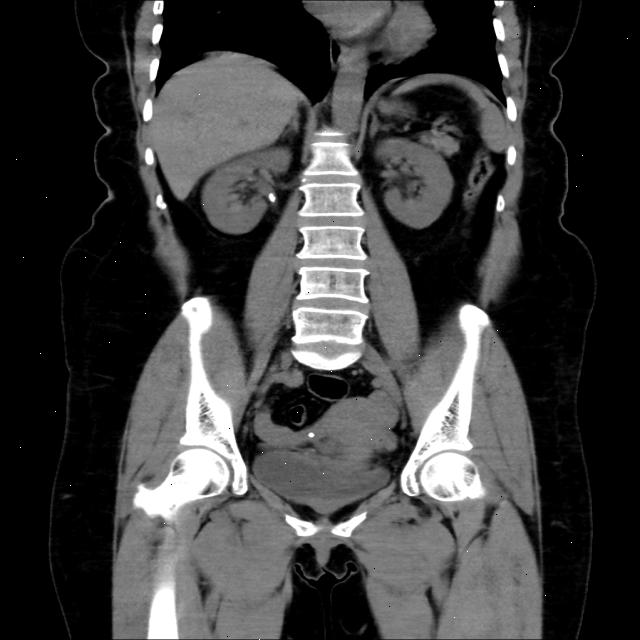kidneystone: (268, 192, 277, 202)
